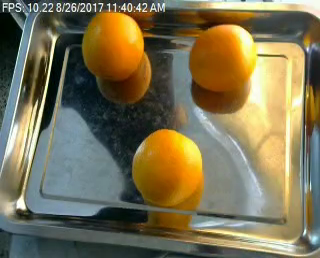Orange: (131, 127, 203, 207), (189, 23, 257, 91), (82, 11, 144, 82)
